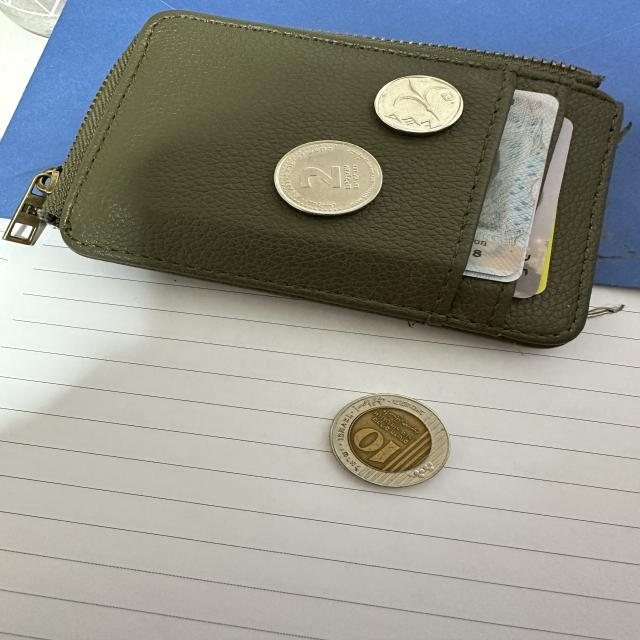1-shekel: (376, 73, 467, 136)
10-shekel: (330, 393, 452, 489)
2-shekel: (272, 140, 387, 215)
